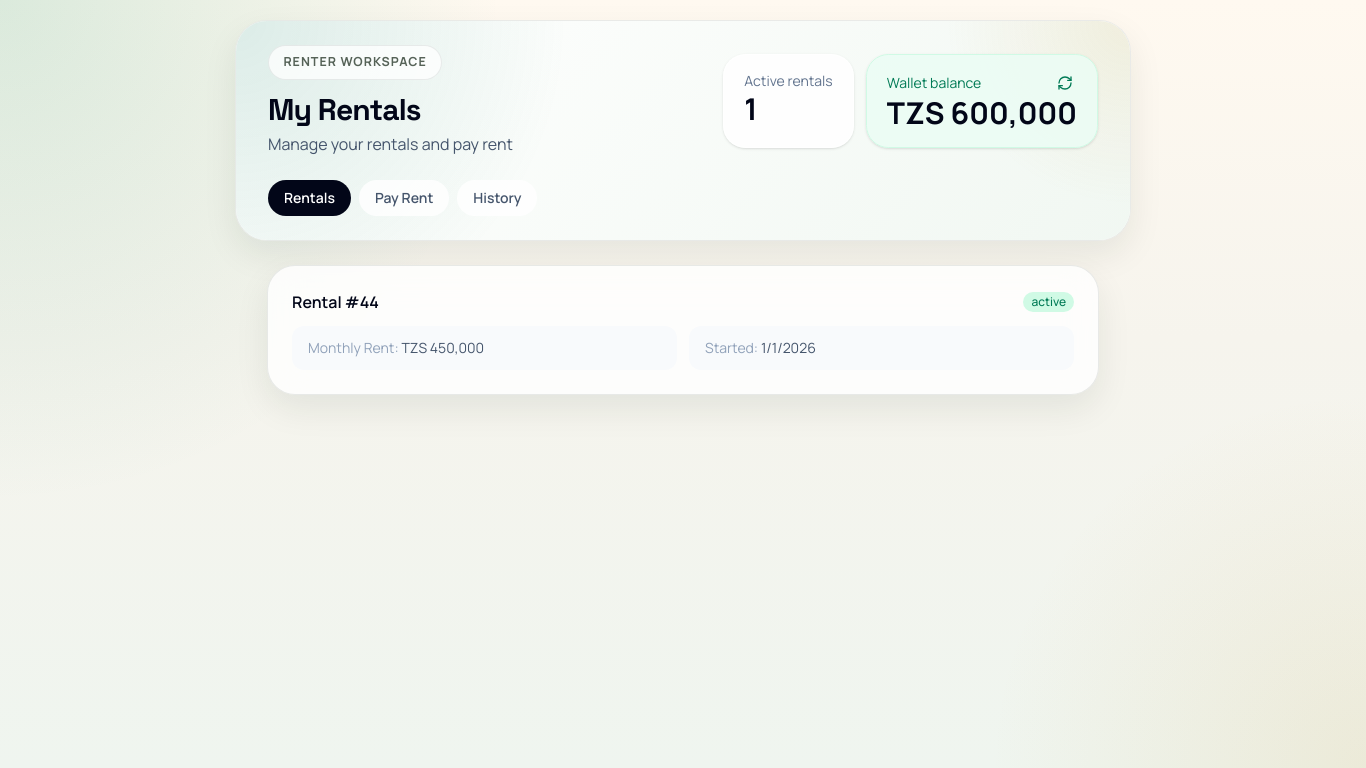
Test: MyRentals payment UX › initiates payment and switches to confirmation mode
Step 1. Click the button "pay rent" → (404, 198), box left=359, top=180, right=449, bottom=216
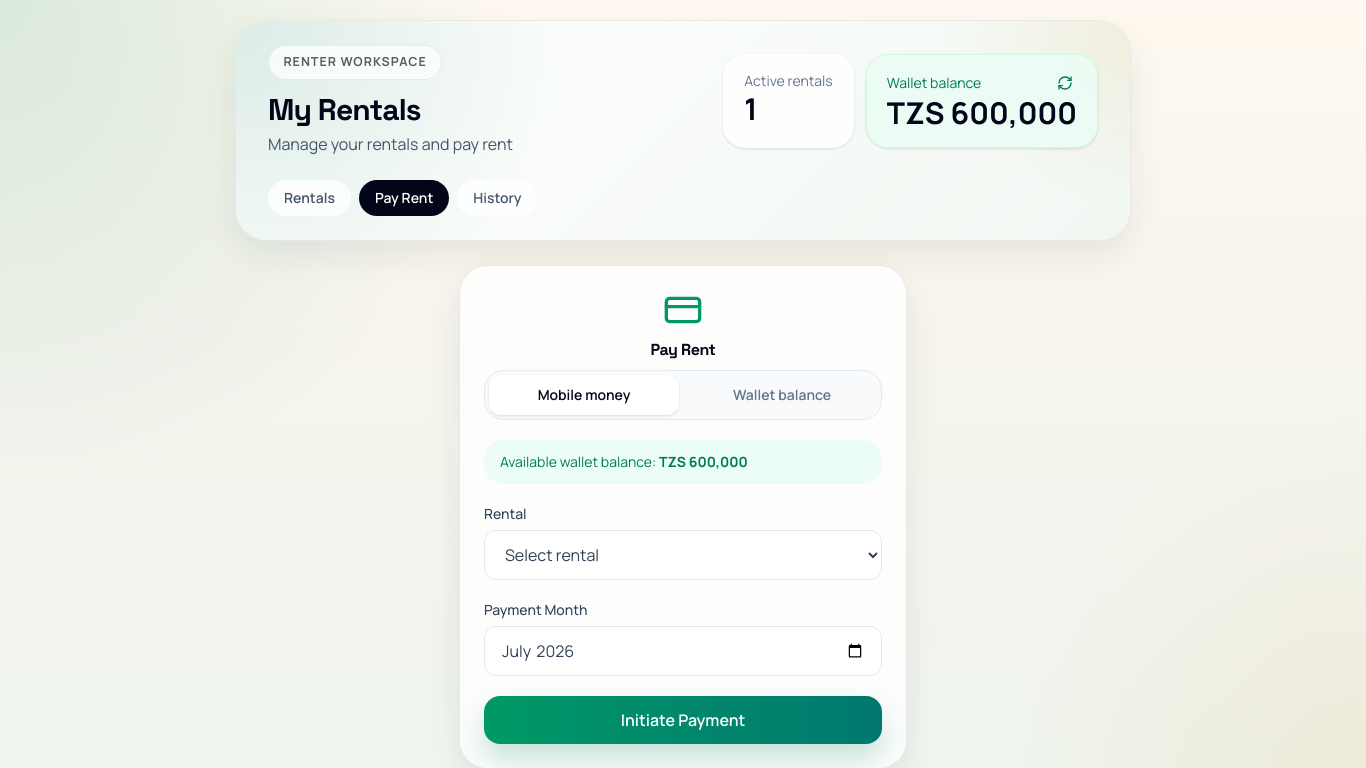
Step 2. Select "Rental #44 - TZS 450,000/mo" in the dropdown → (683, 555), box left=484, top=530, right=882, bottom=580
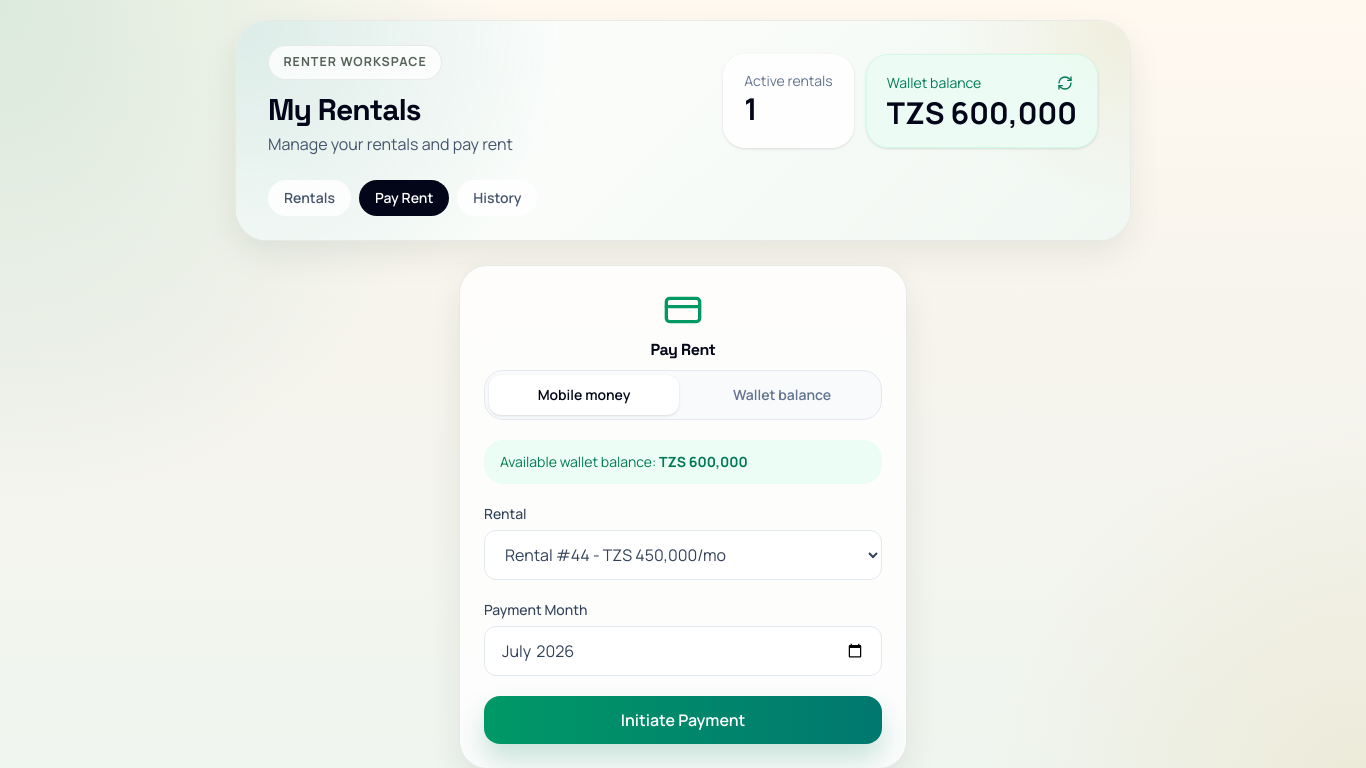
Step 3. Click the button "Initiate Payment" → (683, 720), box left=484, top=696, right=882, bottom=744
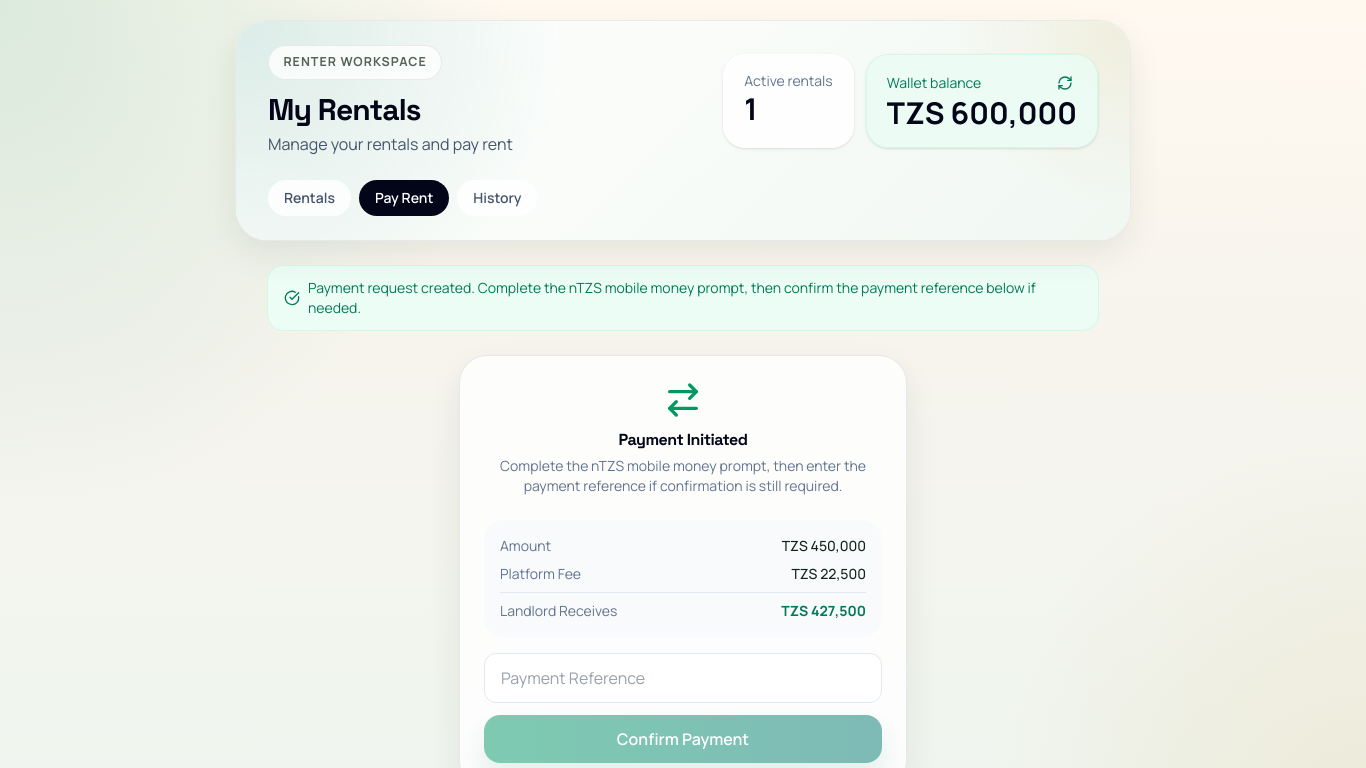
Expected: the heading "Payment Initiated" is shown, left=618, top=429, right=748, bottom=450
Expected: the text "Payment request created. Complete the nTZS mobile money prompt, then confirm the payment reference below if needed." is shown, left=308, top=278, right=1036, bottom=317
